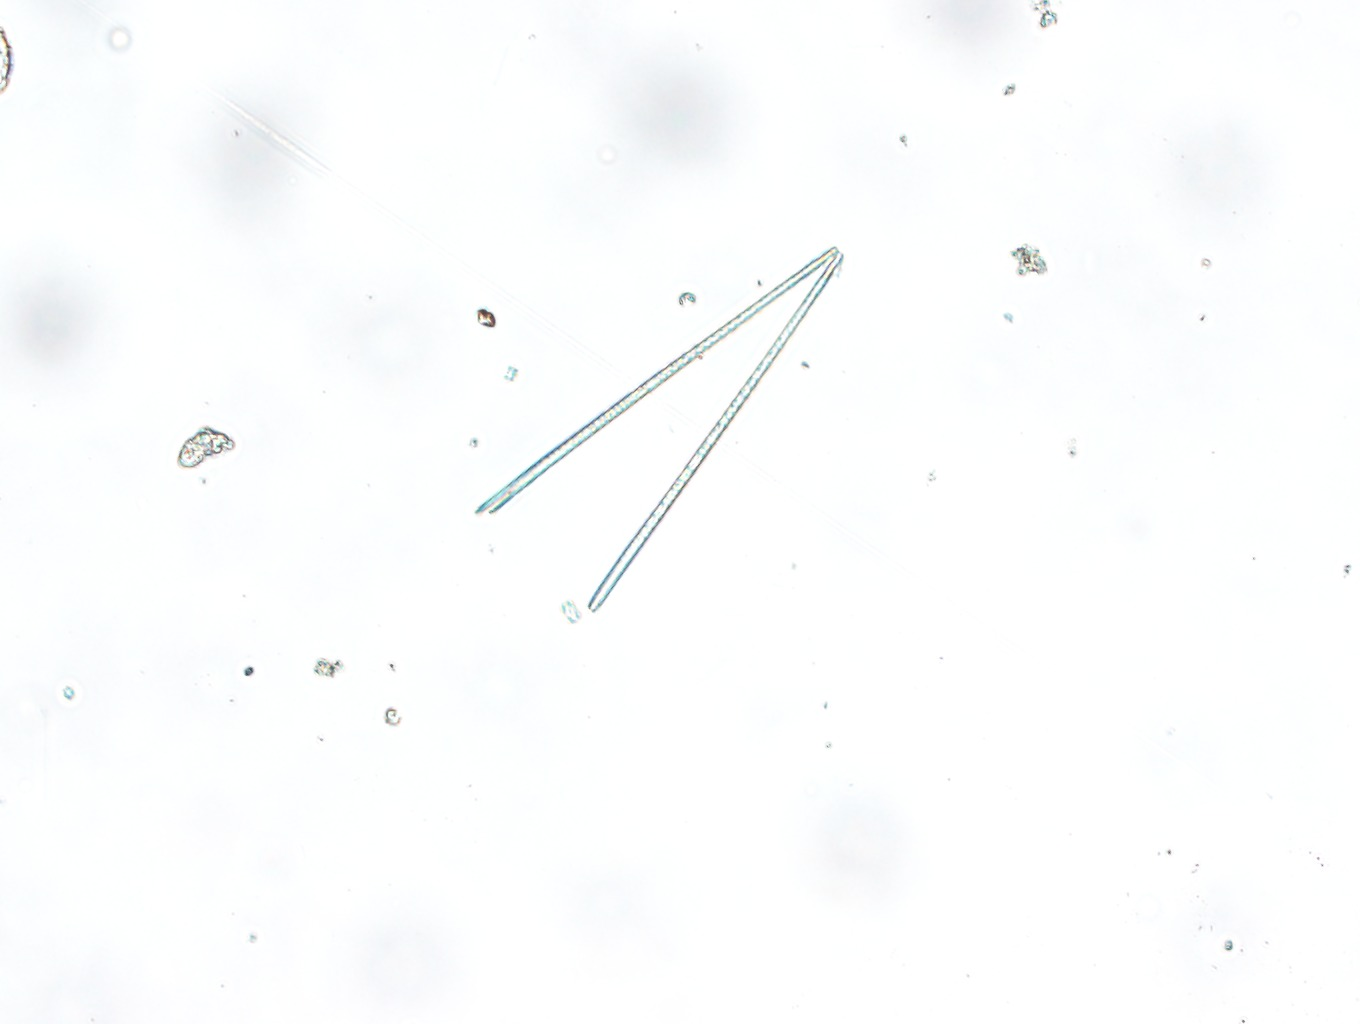thalassionema frauenfeldii: (470, 242, 844, 613)
